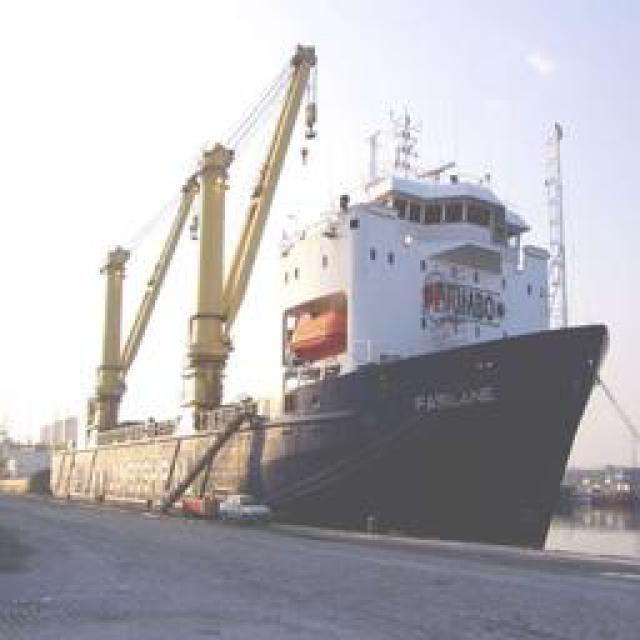Ship: (28, 41, 616, 565)
